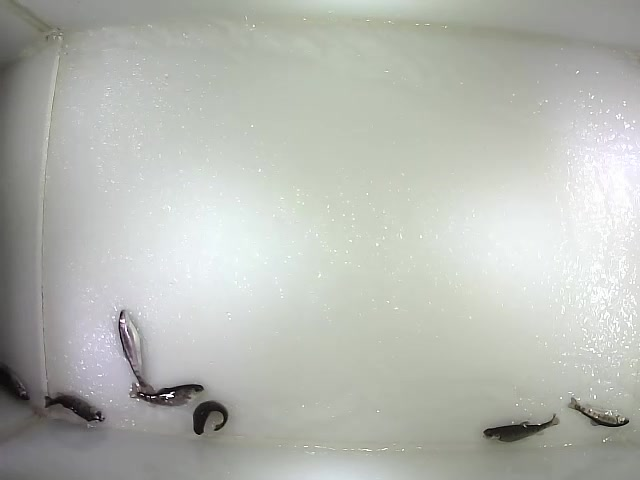fish: (118, 308, 160, 409), (483, 413, 562, 444), (128, 381, 206, 410), (43, 391, 107, 425), (567, 396, 631, 429), (192, 399, 230, 437)
